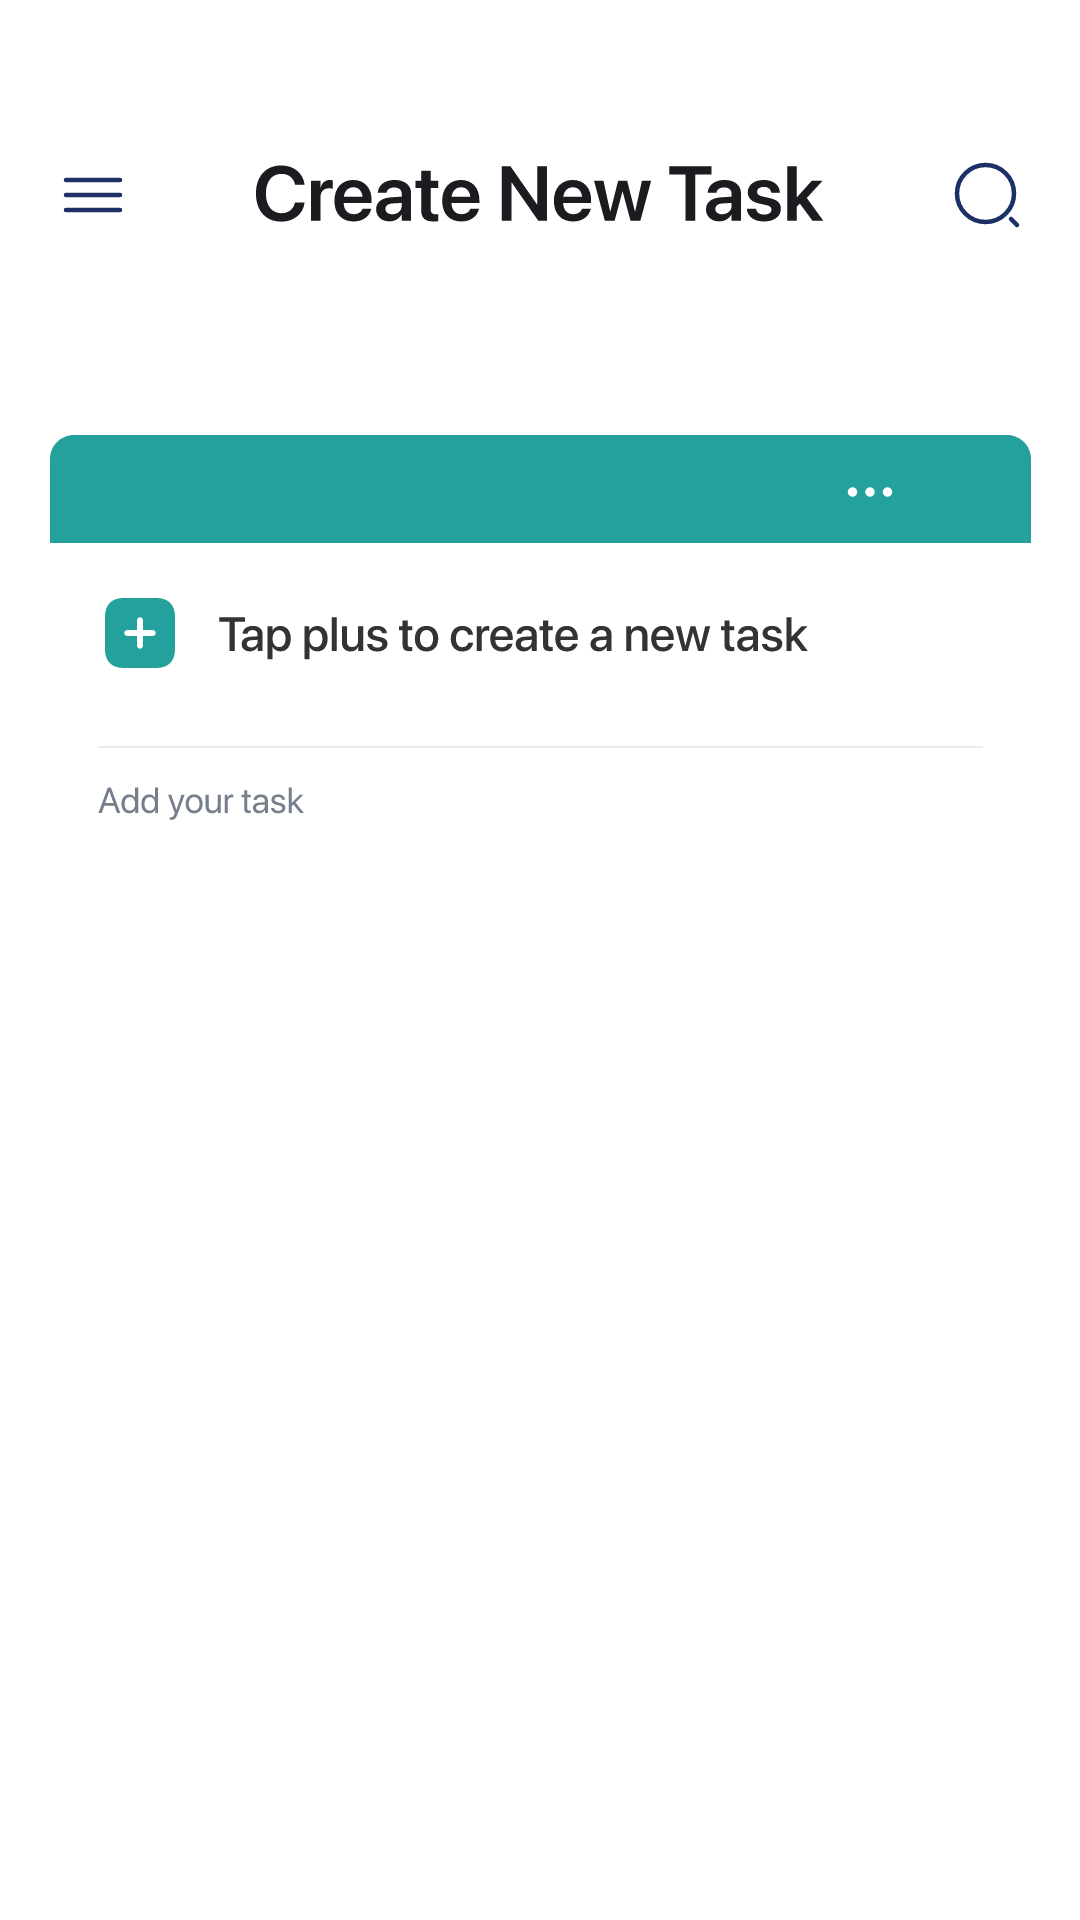

Named icons in this screenshot (1080w x 1920h) and their centers, (x,y):
menu: (93,195)
more: (870,492)
search: (987,195)
